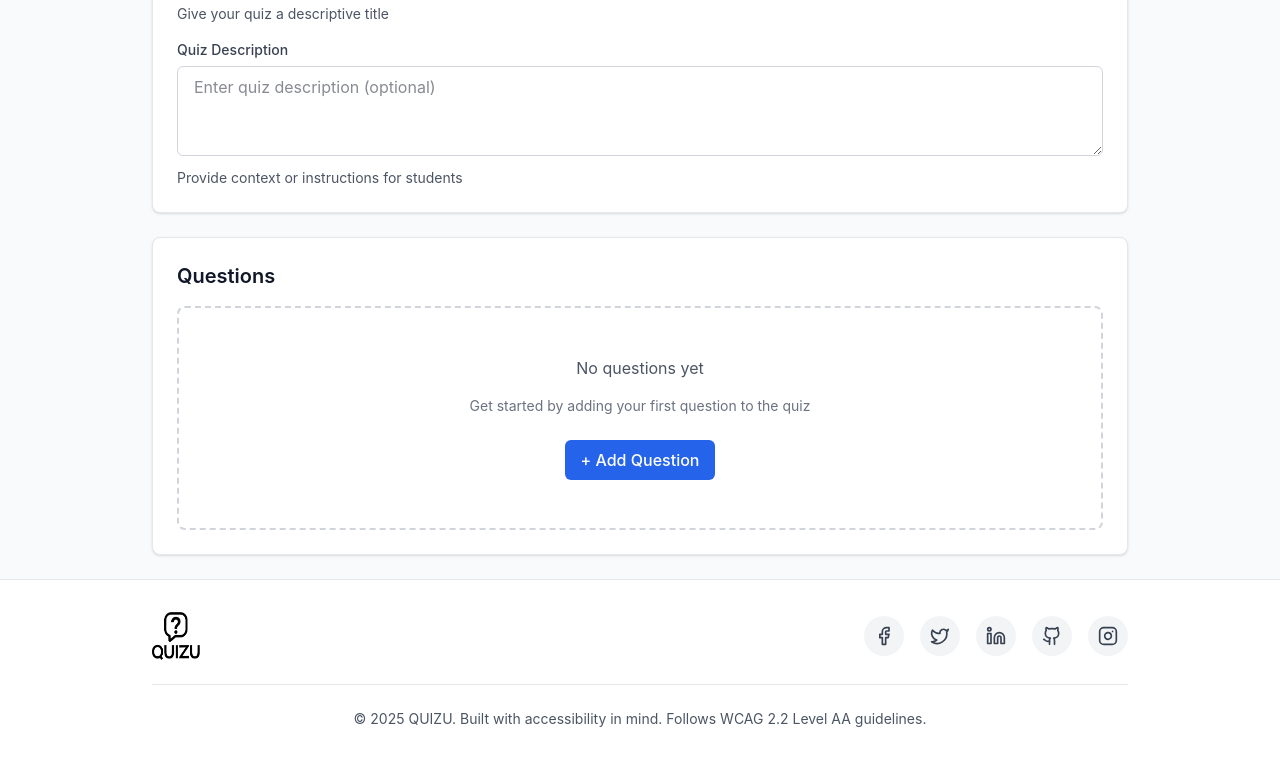
Quiz Builder Integration Tests › Add/Remove Questions › should remove all questions from the quiz
(page scrolled)
Click the button with aria-label "add first question". click: (640, 460)
box: [564, 440, 715, 480]
(page scrolled)
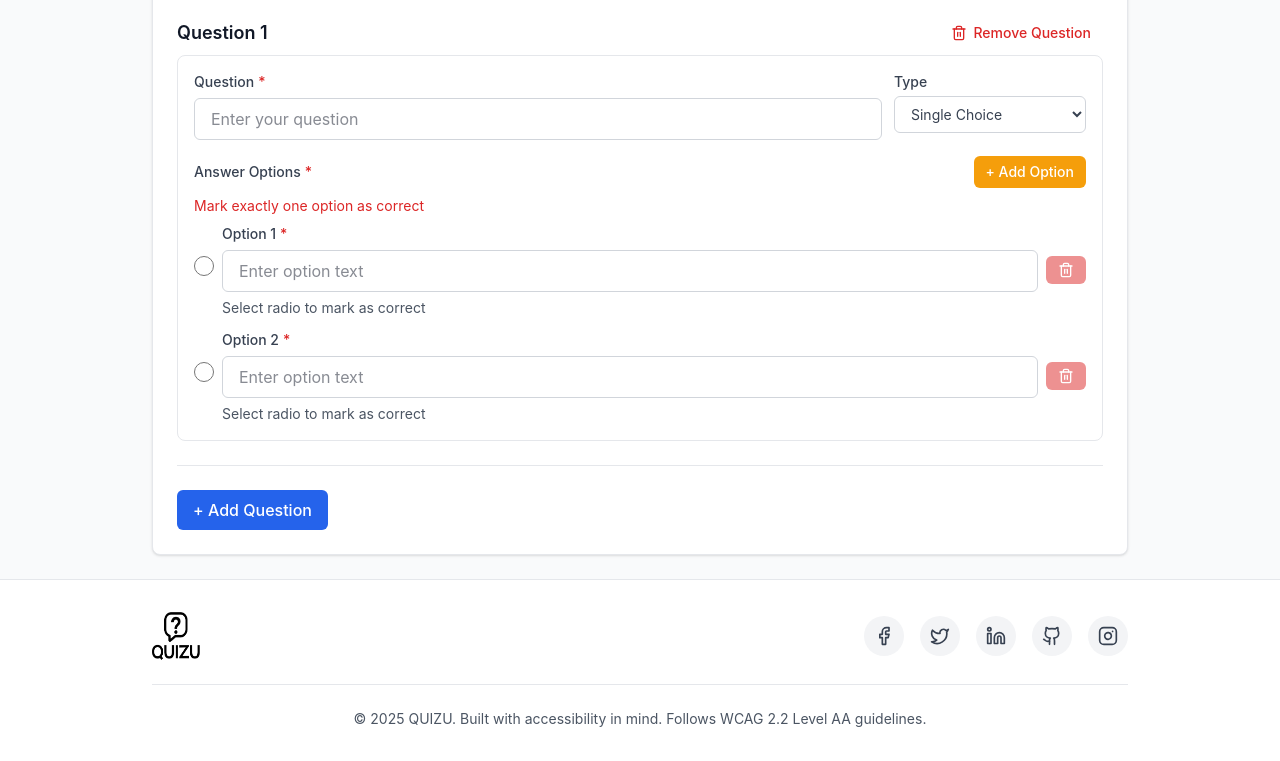
Click the button with aria-label "add new question". click: (252, 510)
box: [177, 490, 328, 530]
(page scrolled)
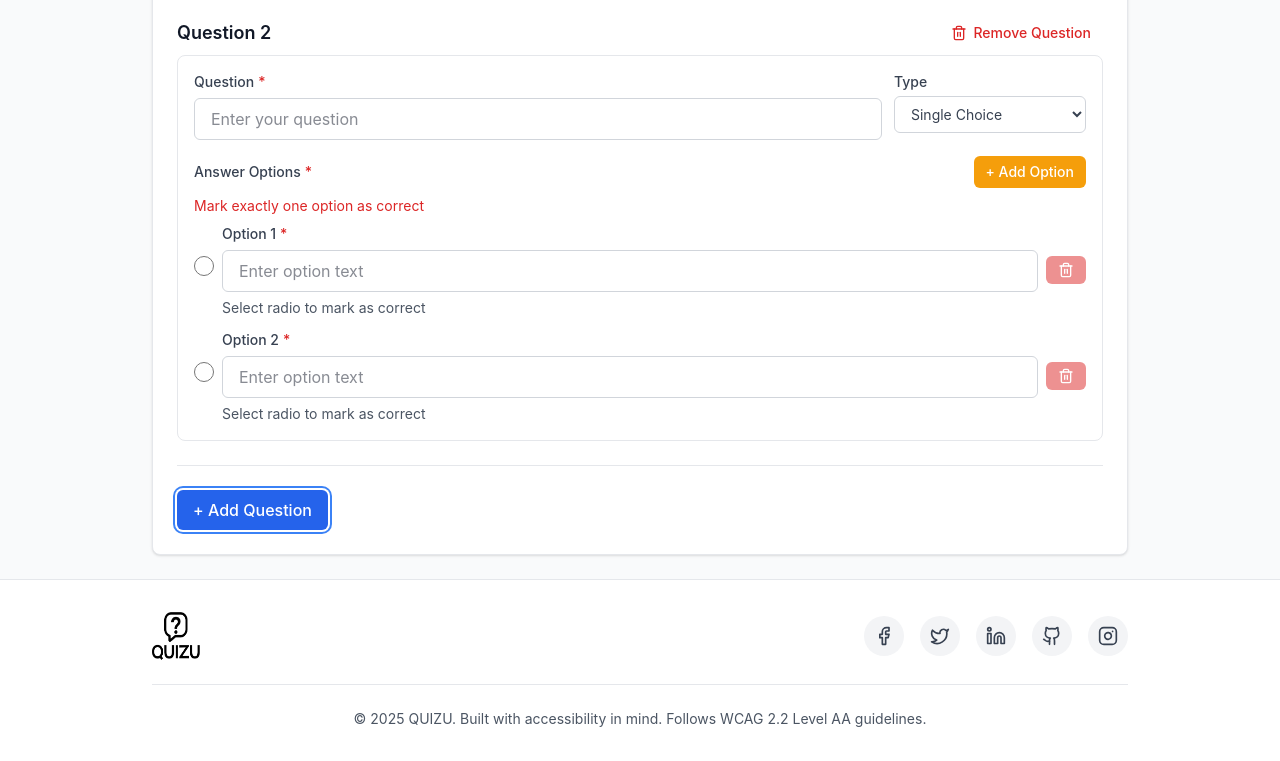
Click the button with aria-label "add new question". click: (252, 510)
box: [177, 490, 328, 530]
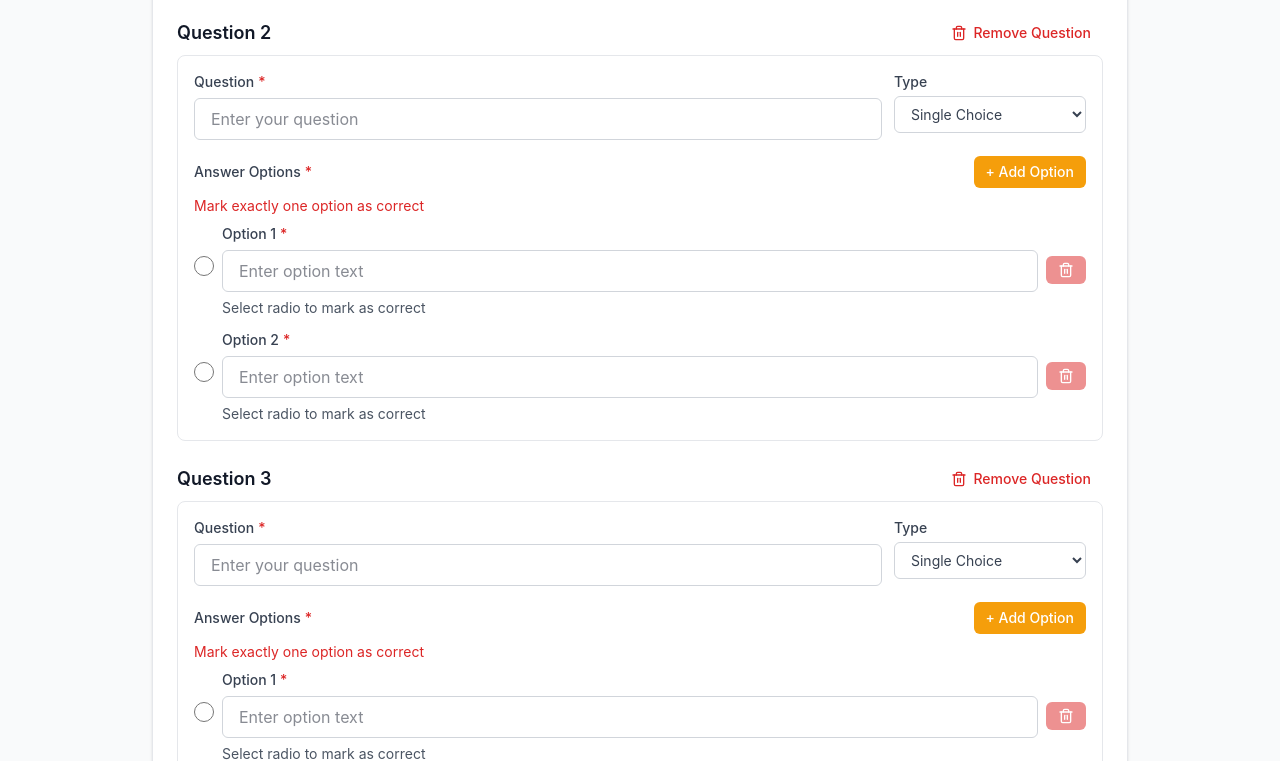
Click the 2nd button "Remove Question". click: (1021, 479)
box: [939, 465, 1103, 493]
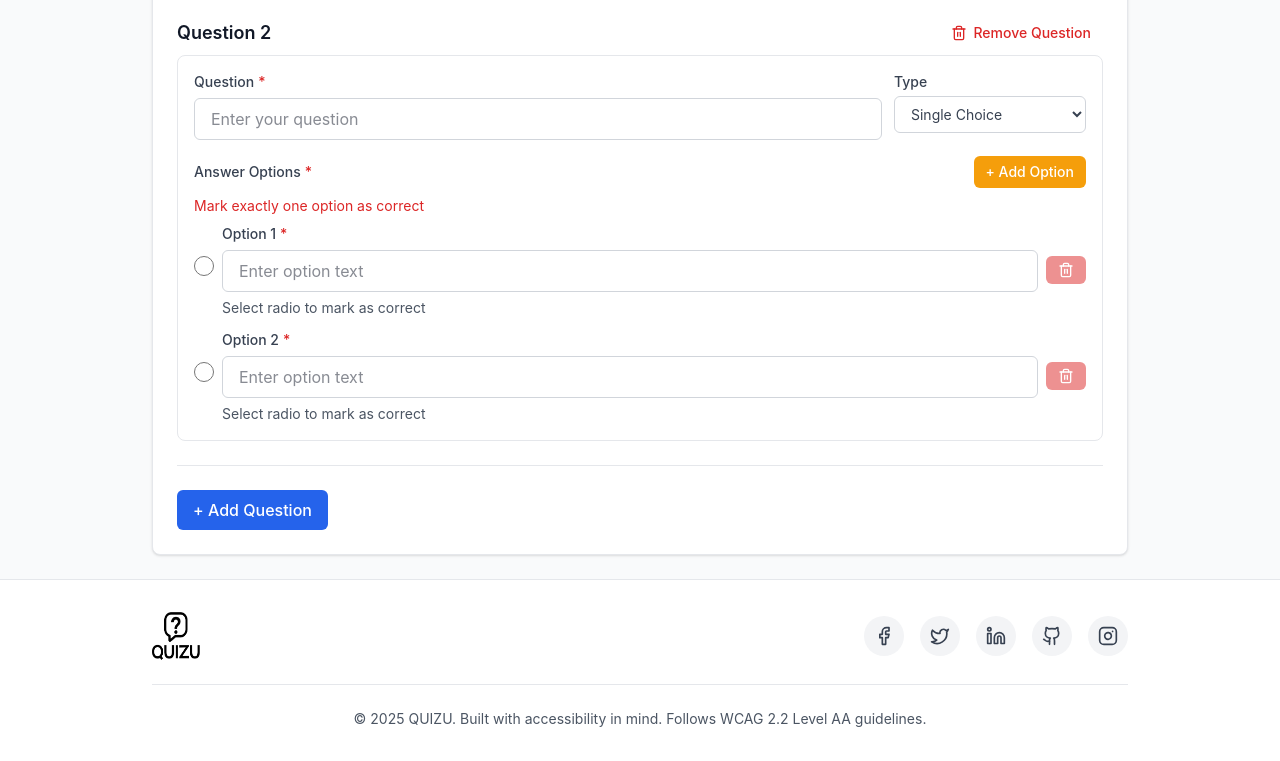
Click the button "Remove Question". click: (1021, 33)
box: [939, 19, 1103, 47]
(page scrolled)
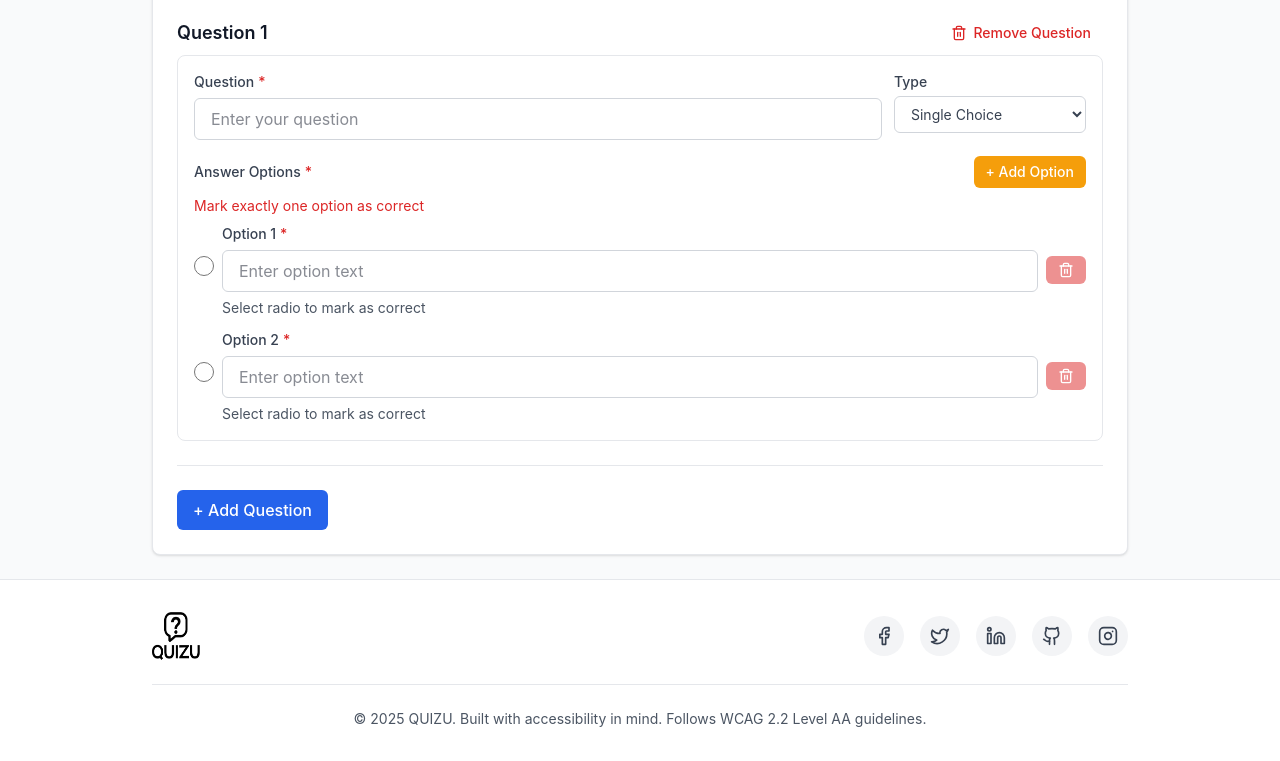
Click the button "Remove Question". click: (1021, 33)
box: [939, 19, 1103, 47]
(page scrolled)
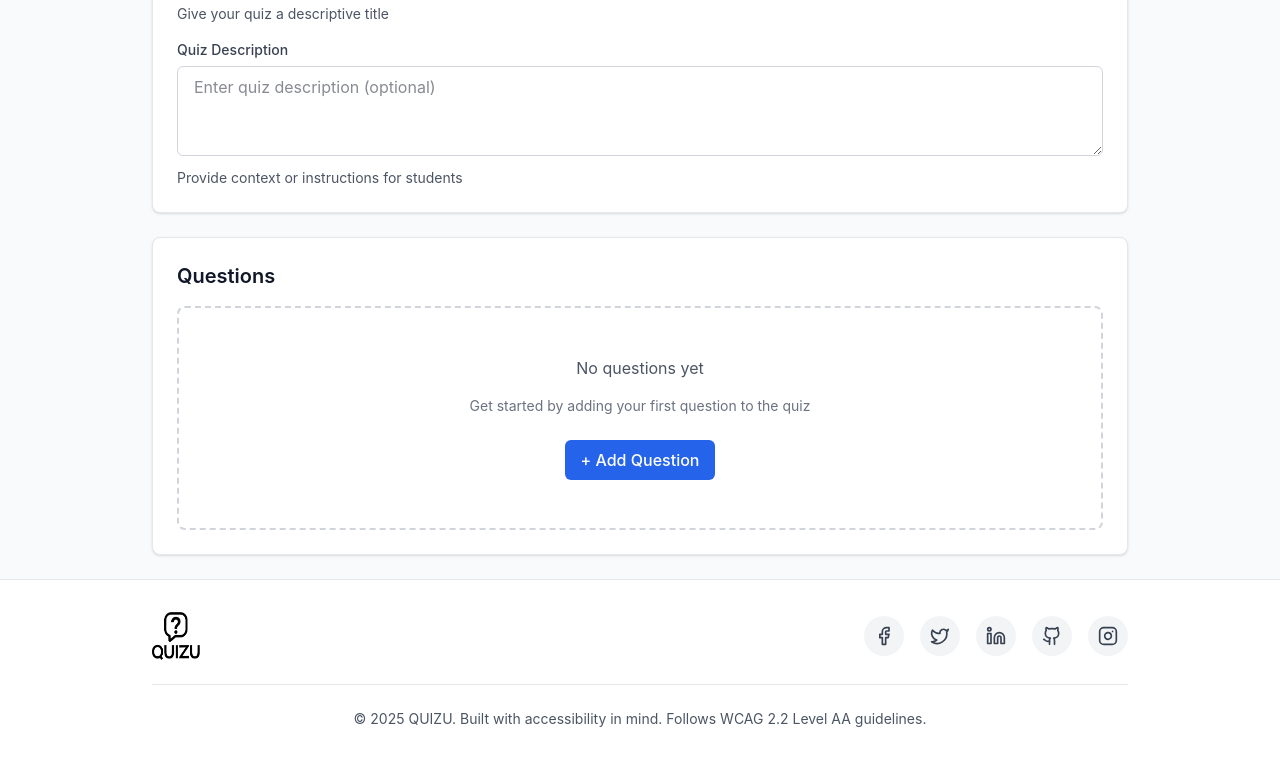
Check: the heading "Question 2" is not shown
Check: the heading "Question 1" is gone
